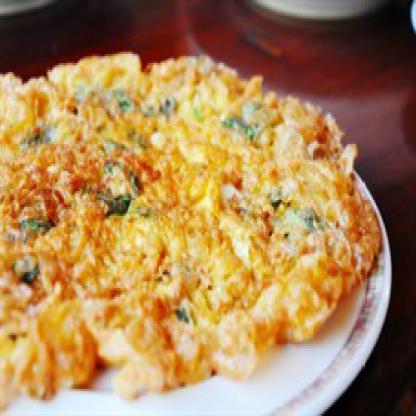Omelette: (0, 47, 390, 414)
